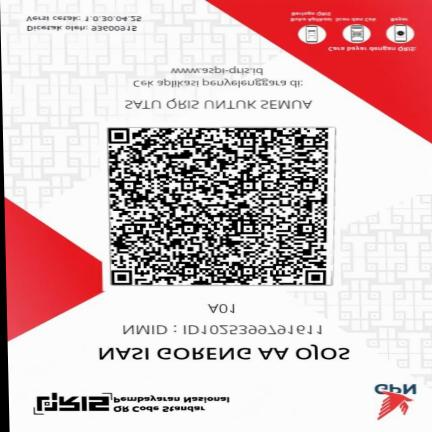Cara Pakai QRIS: (285, 4, 426, 53)
Cek Aplikasi Penyelenggara: (125, 62, 307, 91)
Dicetak Oleh: (16, 24, 156, 33)
Logo GPN: (361, 376, 427, 423)
Logo dan deskripsi QRIS: (23, 389, 246, 418)
Nama Merchant: (87, 343, 356, 369)
National Merchant ID: (100, 321, 335, 339)
QR Code: (94, 121, 349, 296)
Slogan: (105, 97, 324, 115)
Terminal ID: (195, 301, 251, 318)
Versi Cetak: (15, 14, 147, 23)
